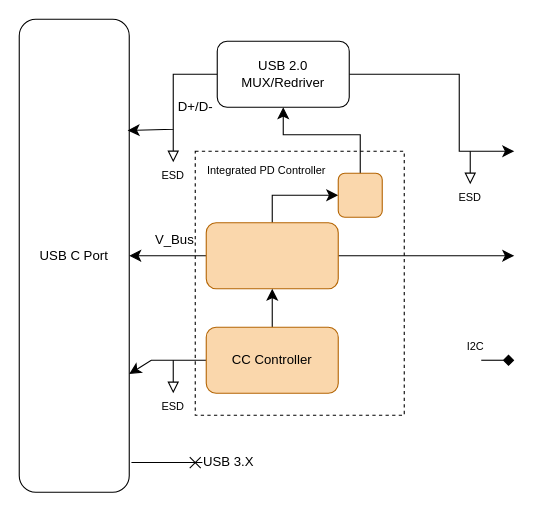
Some shapes in this 545 by 512 pixel diagram are drawn without their labels. The centre of each missing label's shape, as x and y in pixels:
DAC: the point at 359,194
Protection: the point at 271,255
